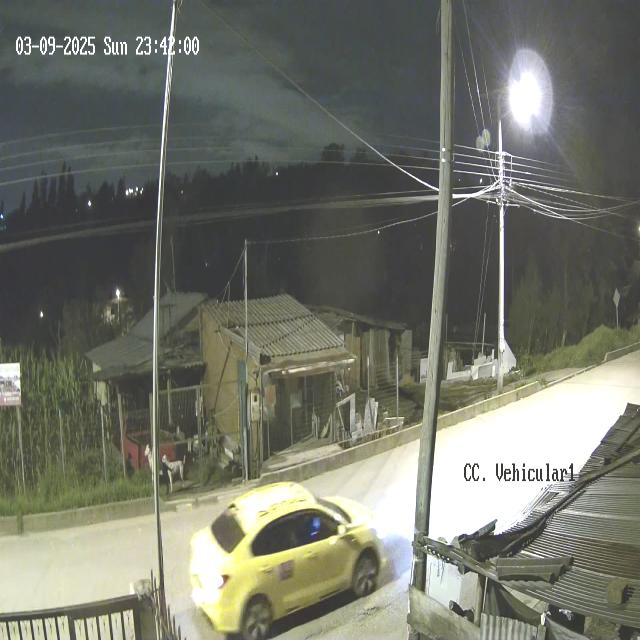SED: (189, 482, 383, 636)
